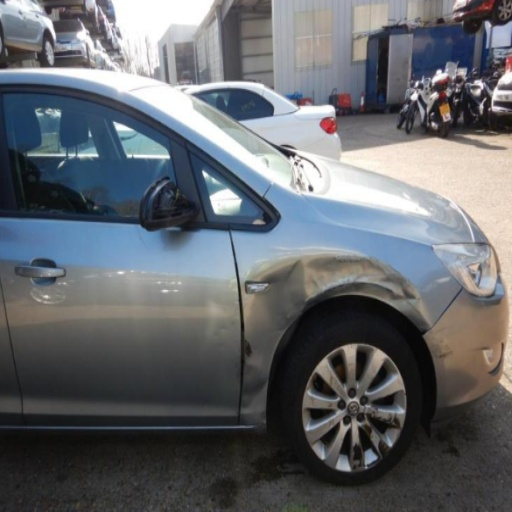dent: (239, 254, 431, 435)
rust: (367, 407, 401, 428), (379, 439, 392, 461), (353, 444, 362, 469), (244, 339, 253, 356), (362, 423, 372, 438), (434, 350, 452, 357), (368, 457, 379, 466), (324, 419, 334, 425), (311, 396, 316, 406), (330, 375, 333, 386), (328, 402, 333, 407)
